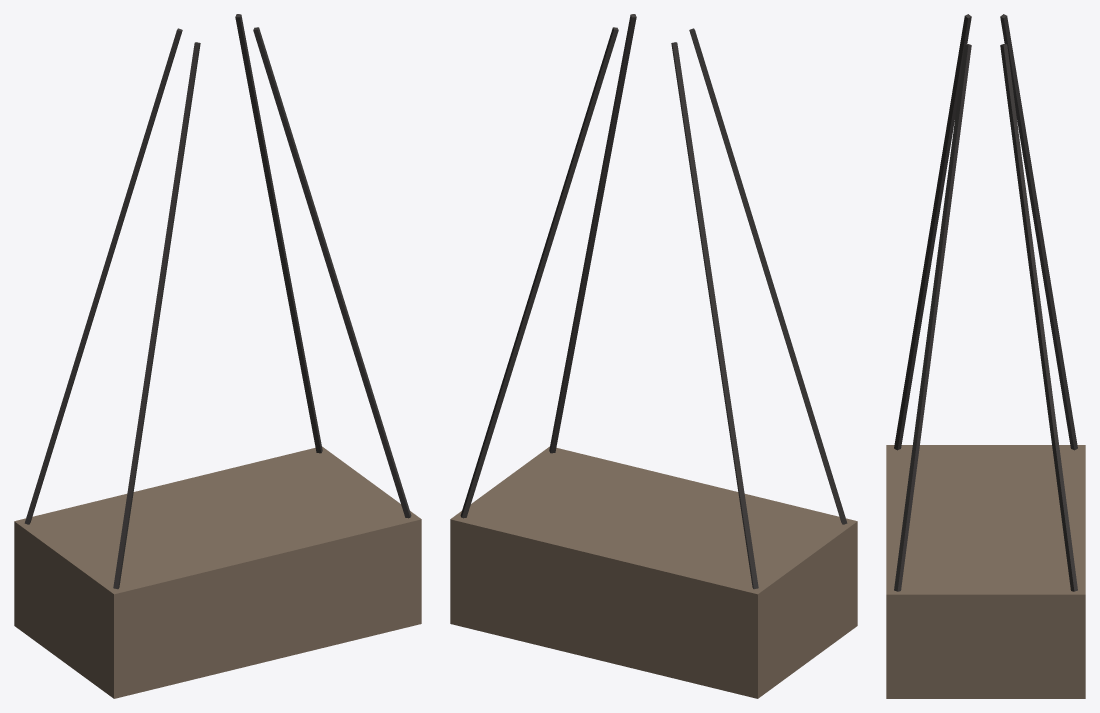
File: Cradle.fbx
3 views of the same model, side by side, from view 1: azimuth 30°, elevation 25°; view 2: azimuth 150°, elevation 25°; view 3: azimuth 270°, elevation 25° (orthographic).
Visible parts, largest first — view 1: Cradle; view 2: Cradle; view 3: Cradle.
Part boxes in pixels (x1,y1,x2,y2): Cradle: (14,14,421,698); Cradle: (450,14,857,698); Cradle: (886,14,1085,698).
Size of the model in its own units: 80 by 148 by 45.
